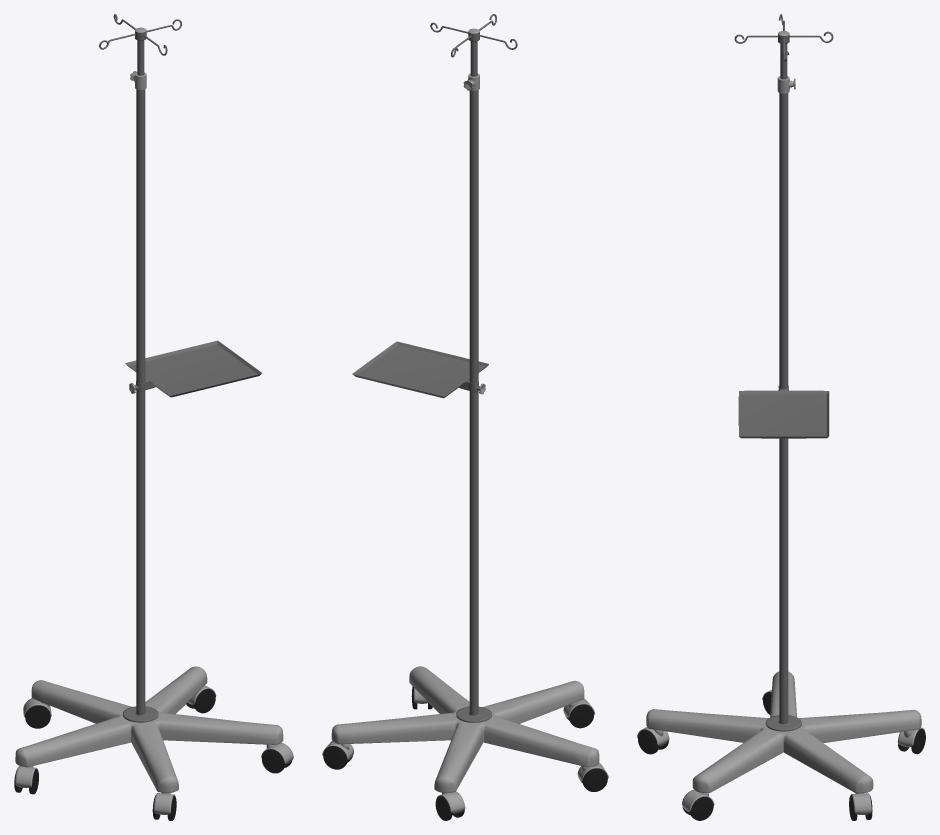
File: tiang_infus.glb
3 renders of one model, left to right at view 1: azimuth 30°, elevation 25°; view 2: azimuth 150°, elevation 25°; view 3: azimuth 270°, elevation 25°, orthographic.
Parts seen in each view (by area): view 1: Object_32; view 2: Object_32; view 3: Object_32.
Part boxes in pixels (bbox=[...]): Object_32: bbox=[14, 14, 293, 820]; Object_32: bbox=[322, 14, 608, 820]; Object_32: bbox=[637, 14, 925, 820].
Size of the model in its own units: 24.53 by 71.33 by 25.28.
Materials: 3 (1 with a texture image).
